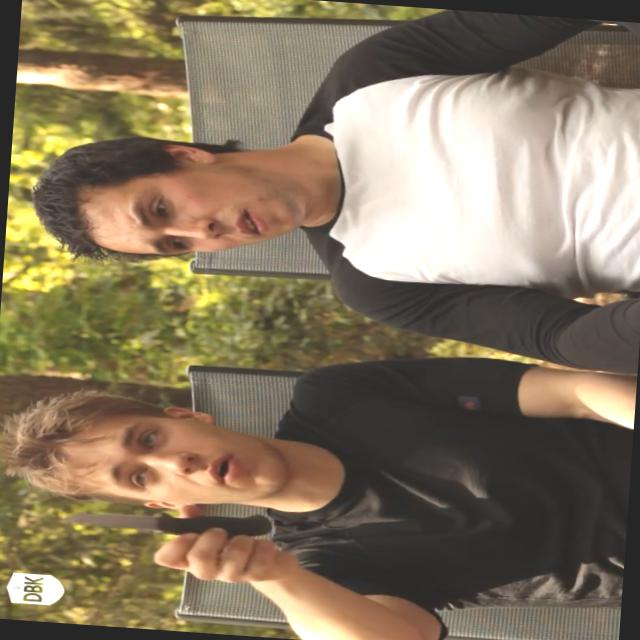knife: (42, 498, 242, 576)
